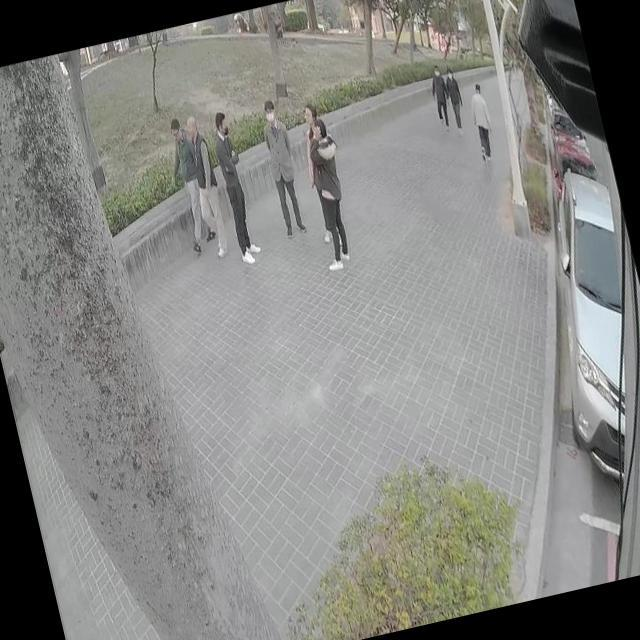person: (289, 109, 367, 281), (152, 108, 218, 256), (290, 97, 354, 249), (175, 108, 236, 262), (208, 109, 261, 261), (256, 98, 309, 238), (462, 78, 503, 164), (440, 63, 471, 136), (422, 58, 453, 125)
